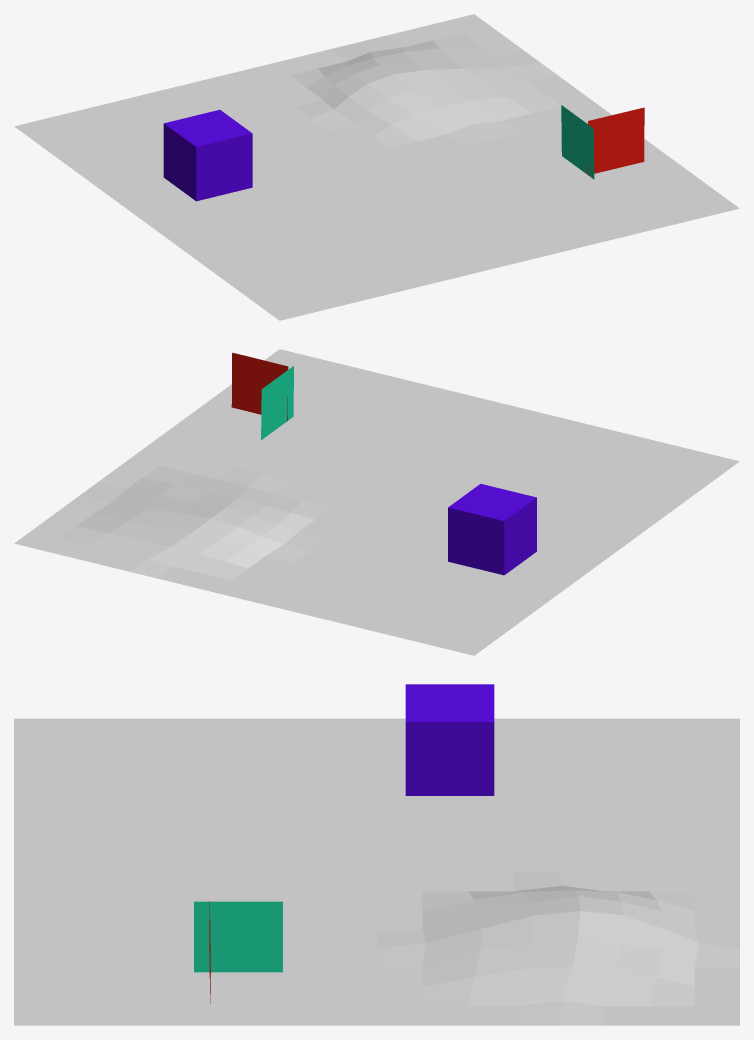
File: empty4.glb
3 renders of one model, top to bottom at view 1: azimuth 30°, elevation 25°; view 2: azimuth 150°, elevation 25°; view 3: azimuth 270°, elevation 25°, orthographic. The views are drawn at different scales.
Visible parts, largest first — view 1: ground, blue_cube, red_plane, green_plane; view 2: ground, blue_cube, red_plane, green_plane; view 3: ground, blue_cube, green_plane.
Boxes of the visible parts, x1=… form: ground: x1=14, y1=14, x2=739, y2=320; blue_cube: x1=163, y1=109, x2=252, y2=201; red_plane: x1=587, y1=107, x2=644, y2=174; green_plane: x1=561, y1=105, x2=594, y2=179; ground: x1=14, y1=349, x2=739, y2=655; blue_cube: x1=448, y1=483, x2=536, y2=575; red_plane: x1=231, y1=352, x2=288, y2=421; green_plane: x1=261, y1=366, x2=293, y2=440; ground: x1=14, y1=718, x2=739, y2=1025; blue_cube: x1=405, y1=684, x2=494, y2=795; green_plane: x1=194, y1=901, x2=282, y2=972.
Bounding box in the file's own units: 16.36 × 2.11 × 16.36.
